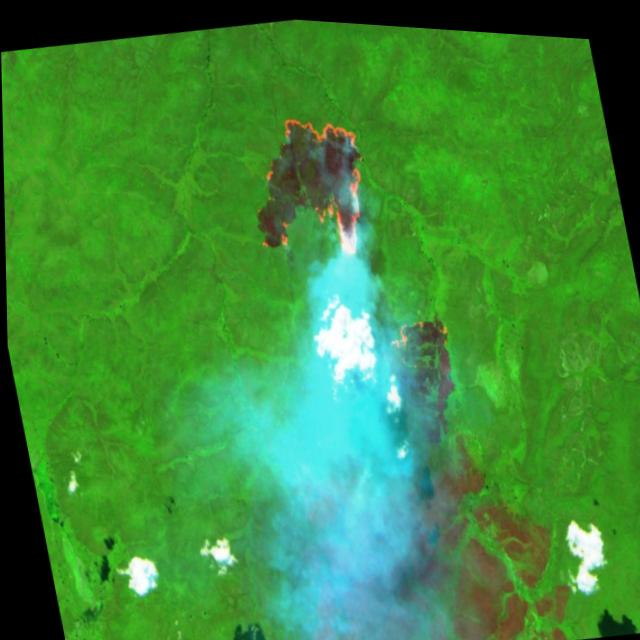fire: (231, 90, 386, 278), (380, 303, 453, 357)
